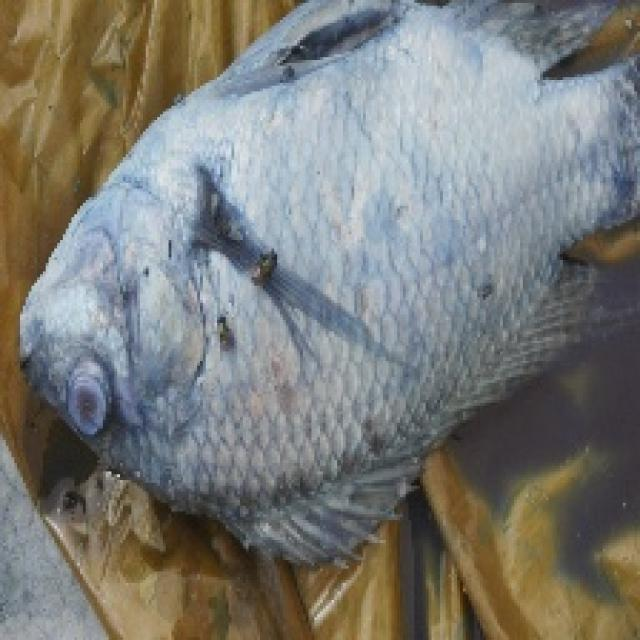Non-Fresh: (5, 49, 598, 521)
